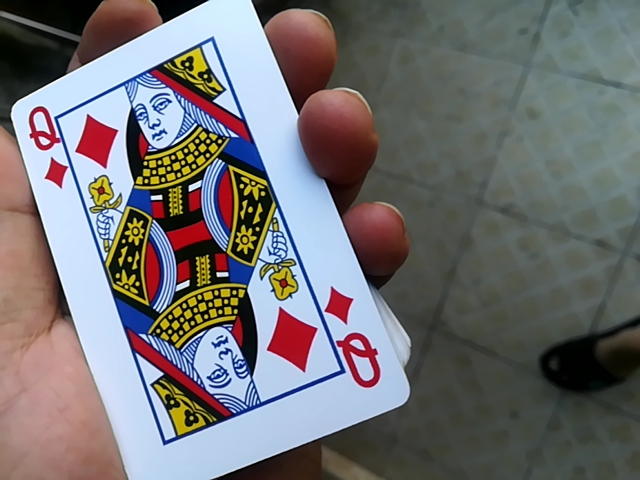fk q: (3, 5, 415, 479)
